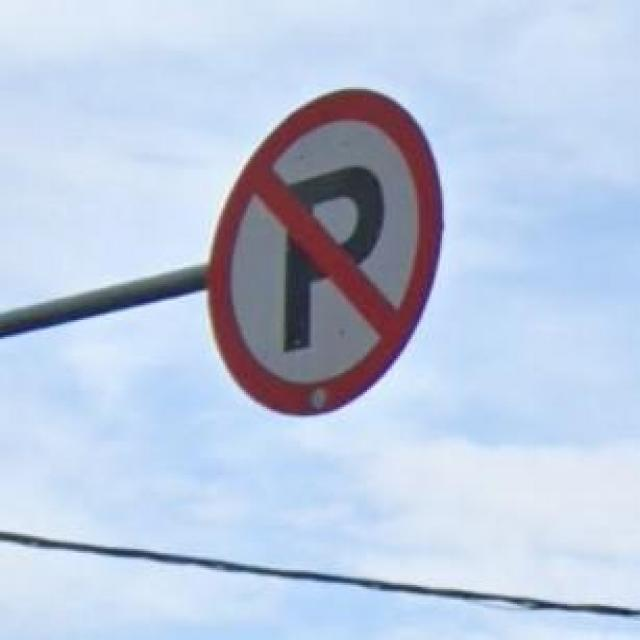traffic sign: (209, 87, 444, 418)
